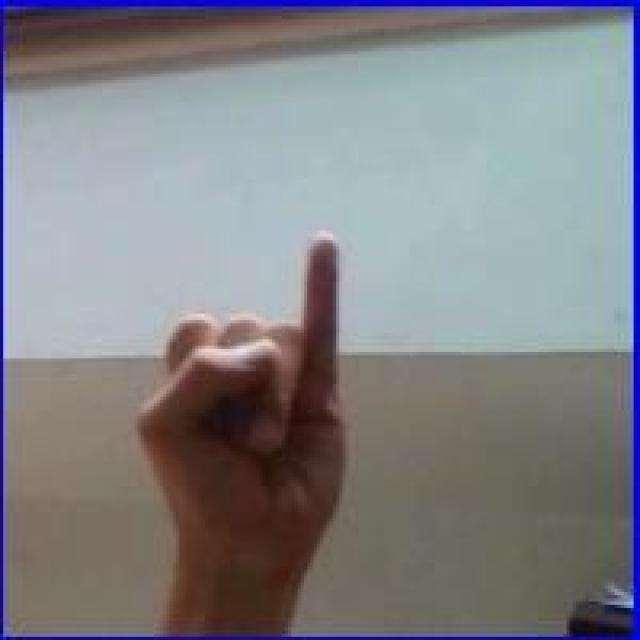I: (125, 230, 349, 596)
